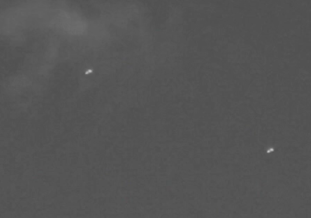Target: (86, 70, 273, 152)
